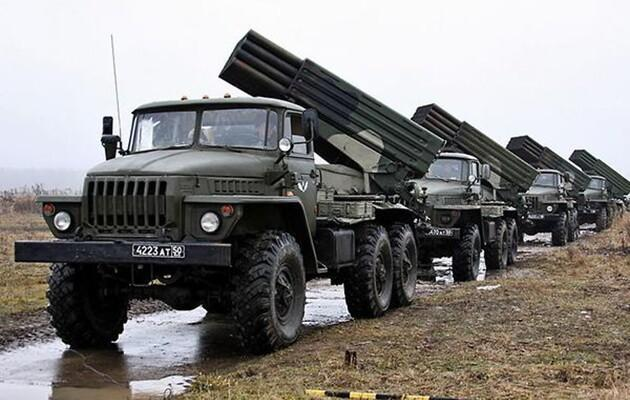rszo: (57, 22, 426, 351), (414, 101, 531, 268), (532, 140, 590, 244), (576, 136, 630, 233)
